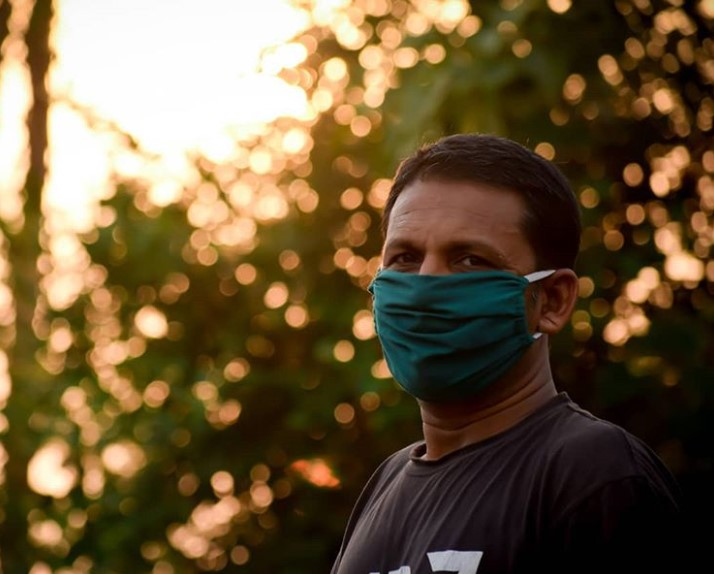face_with_mask: (365, 145, 580, 416)
